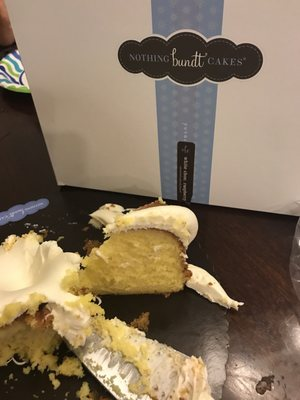pizza: (0, 0, 30, 95)
